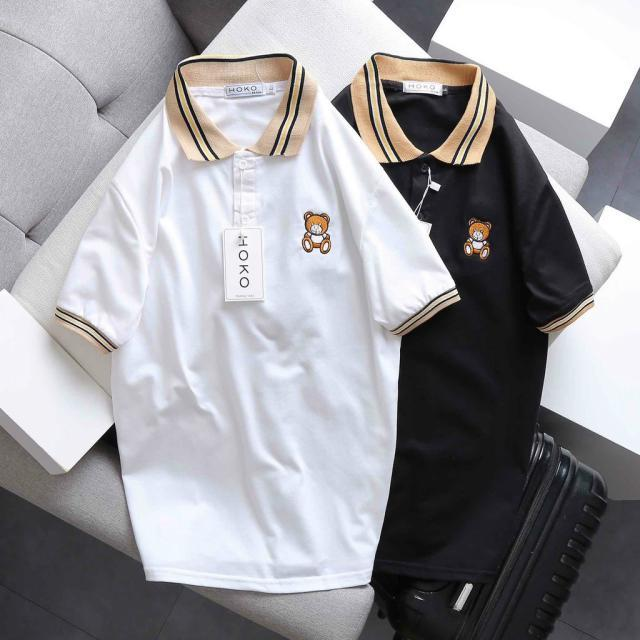Shirt: (53, 50, 470, 601), (294, 42, 594, 586)
